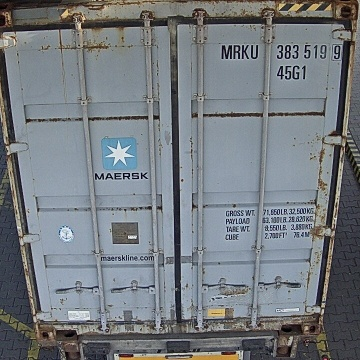serial_id: (221, 44, 342, 58)
